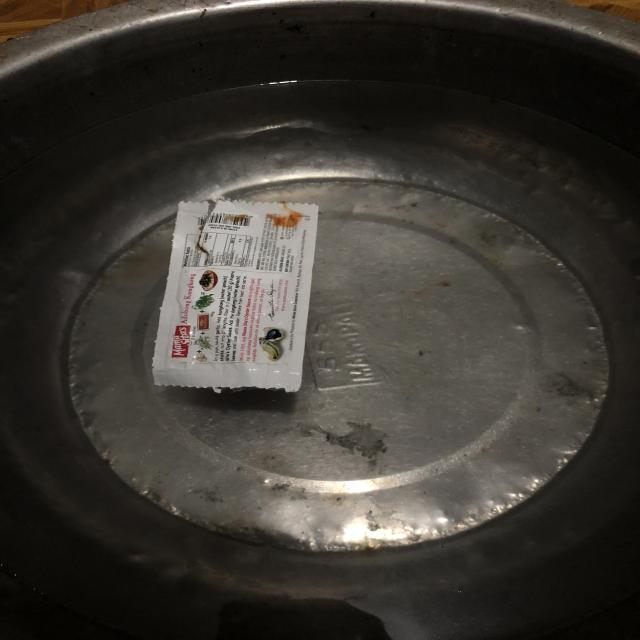Plastic Wrapper: (153, 200, 318, 392)
